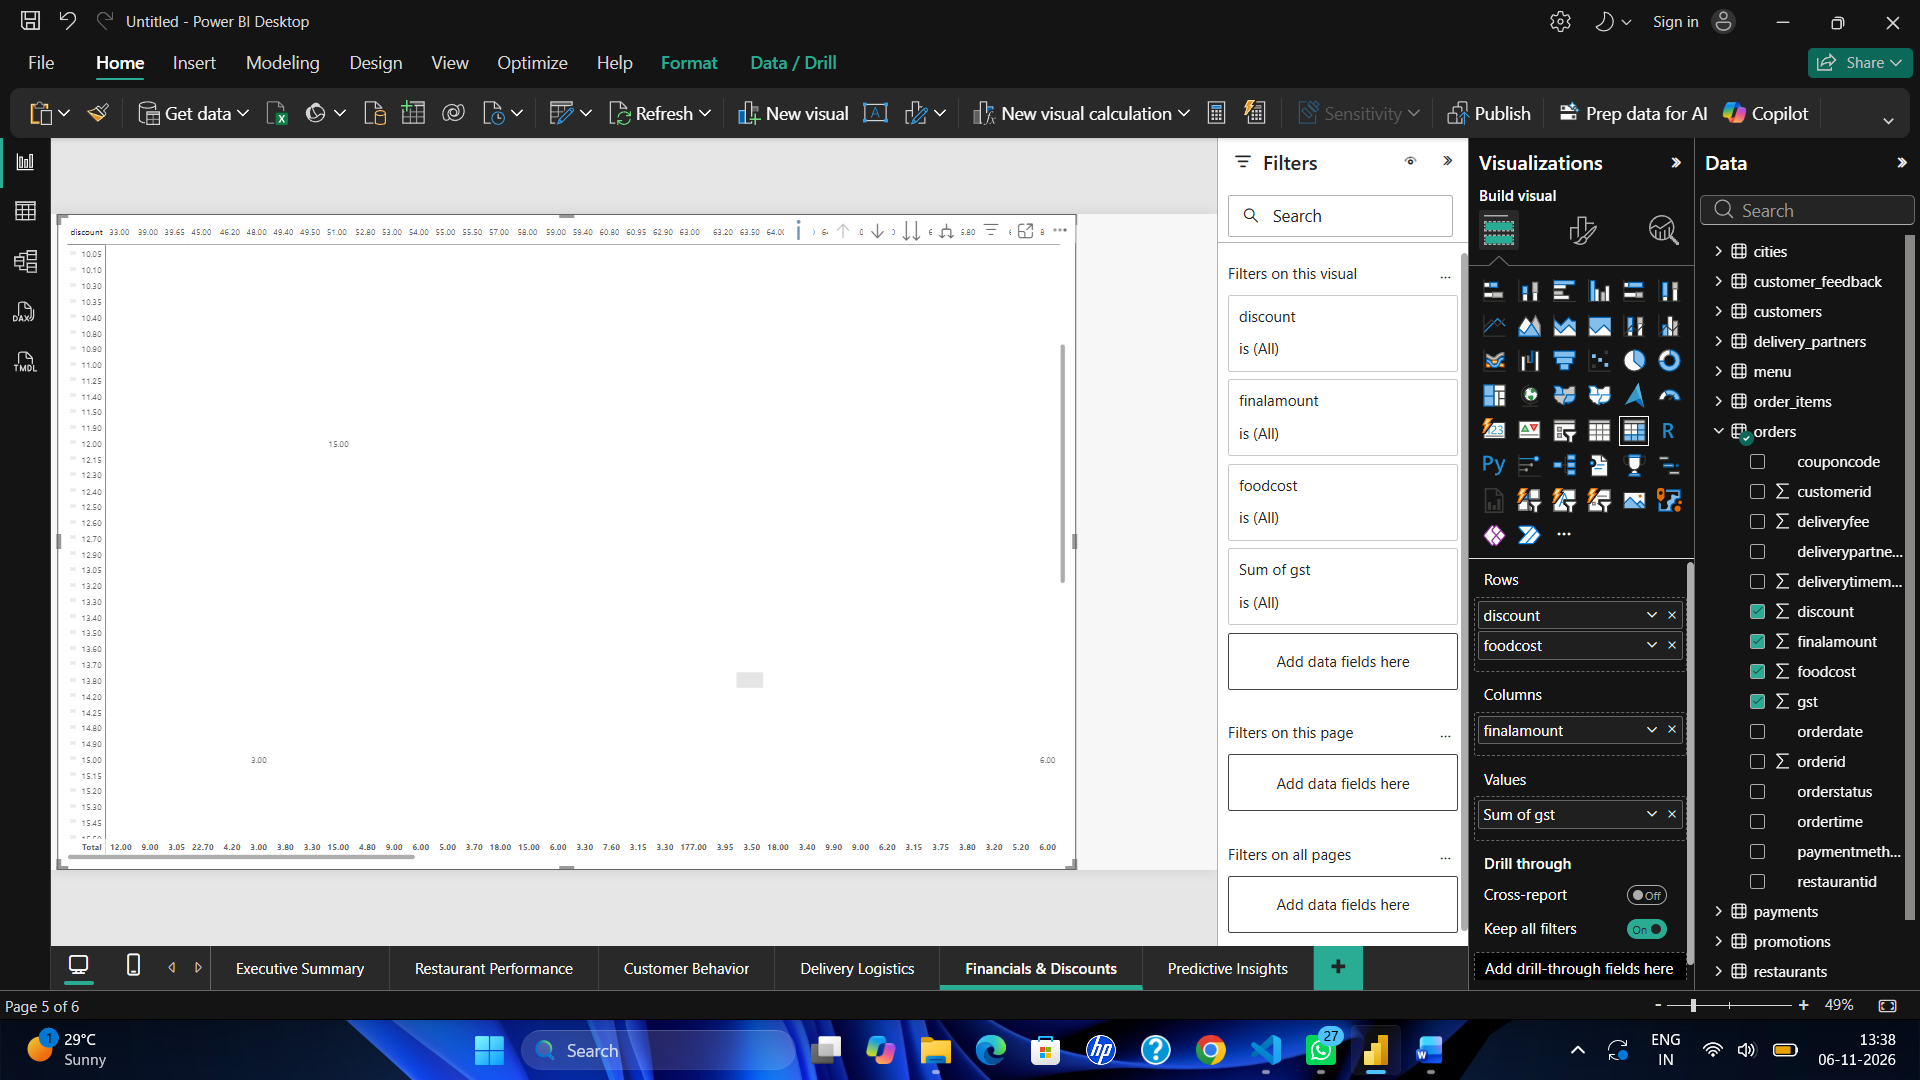

The dashboard page shown, as its layout file describes it:
{"tool":"powerbi","page":{"name":"Financials & Discounts","canvas":[1920,1080],"ordinal":4},"visuals":[{"type":"pivotTable","fields":{"Columns":["orders.finalamount"],"Rows":["orders.discount","orders.foodcost"],"Values":["Sum(orders.gst)"]},"box":[10.3,0,1677.5,1080.6],"z":0}]}

Visuals, with their boxes on the page's 1920x1080 design canvas (x1, y1, x2, y2). These are canvas units, not pixel positions in the 1920x1080 screenshot, which may show the page scaled, cropped or inside an application window:
pivotTable - orders.finalamount x orders.discount: x1=10, y1=0, x2=1688, y2=1081
